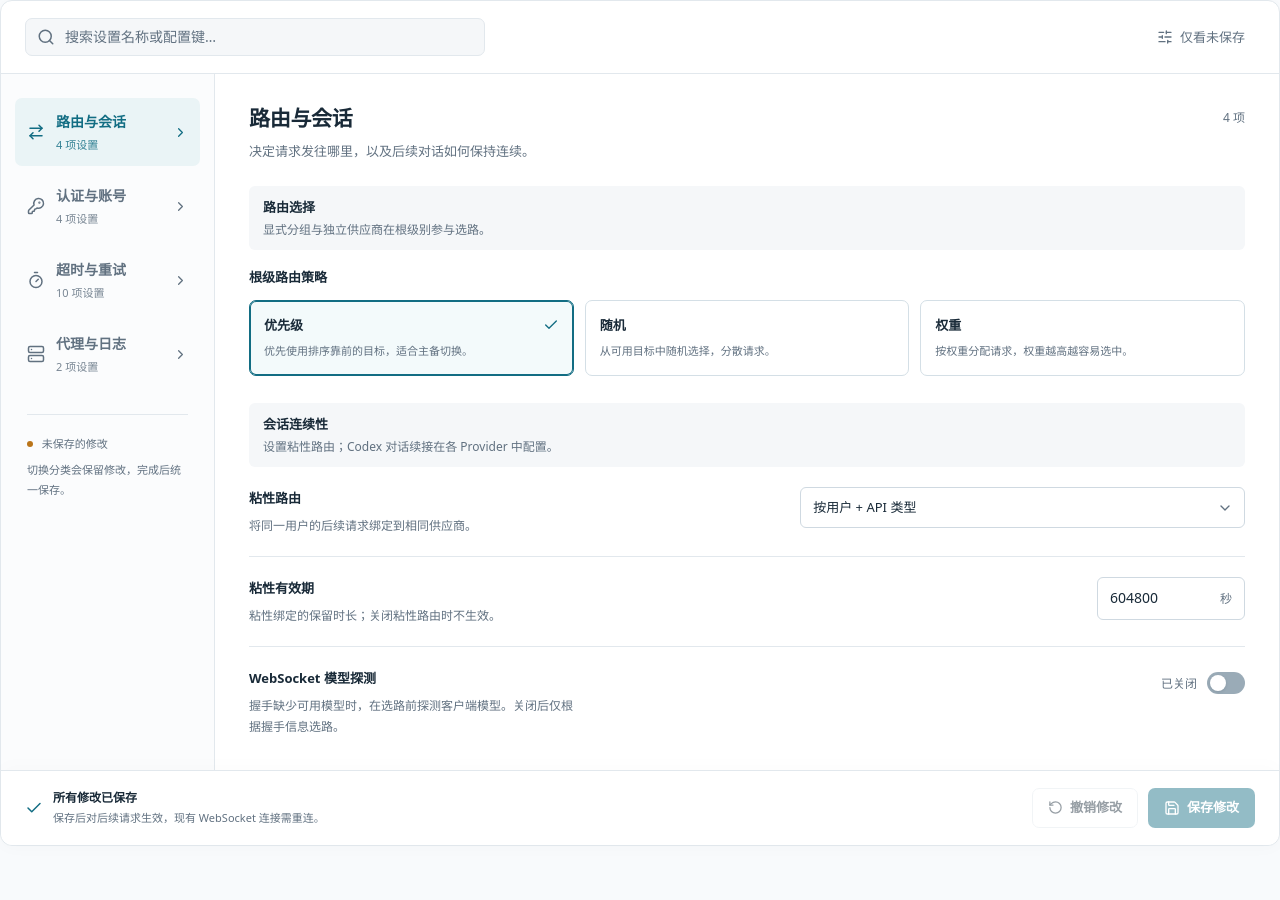
it: configuration editing › does not submit edits when confirming a search with Enter
The width and height of the screenshot is (1280, 900).
Replace the text in the number field labelled "粘性有效期" with "600" at x=1159, y=598, box [1098, 578, 1220, 618]
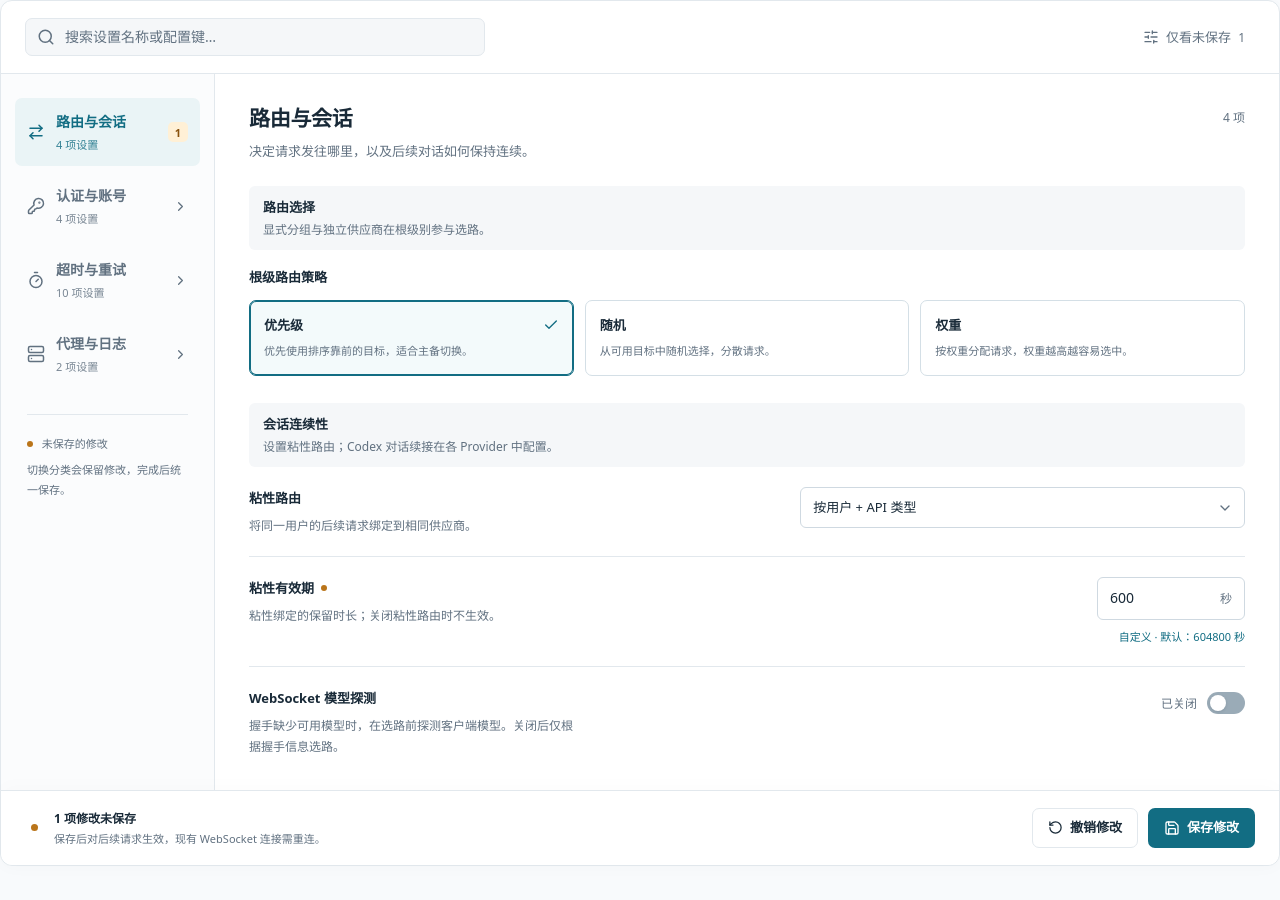
Type "日志" into the search field at x=269, y=37, box [65, 26, 473, 48]
Then press Enter
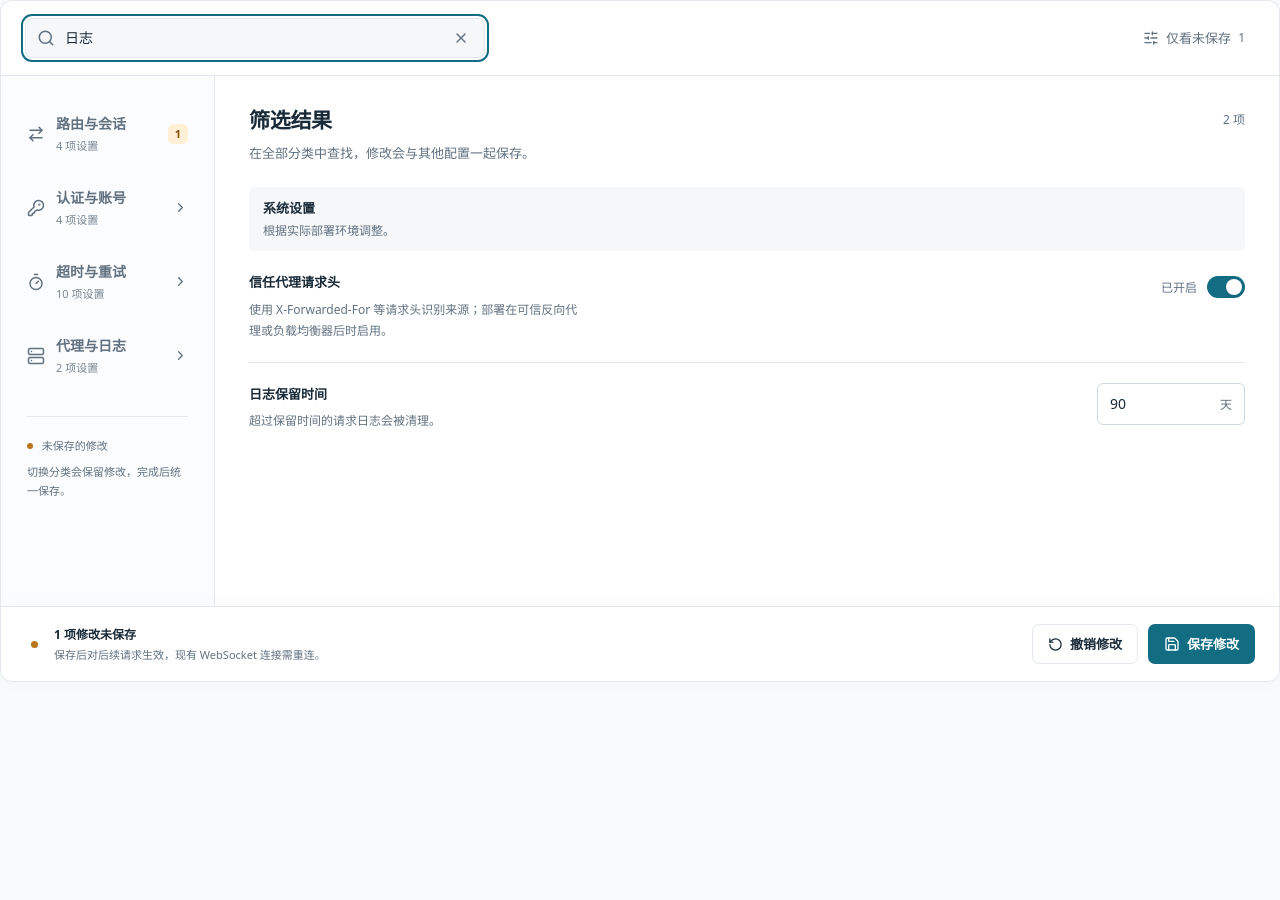
Check: the number field labelled "日志保留时间" is shown, box [1098, 384, 1220, 424]
